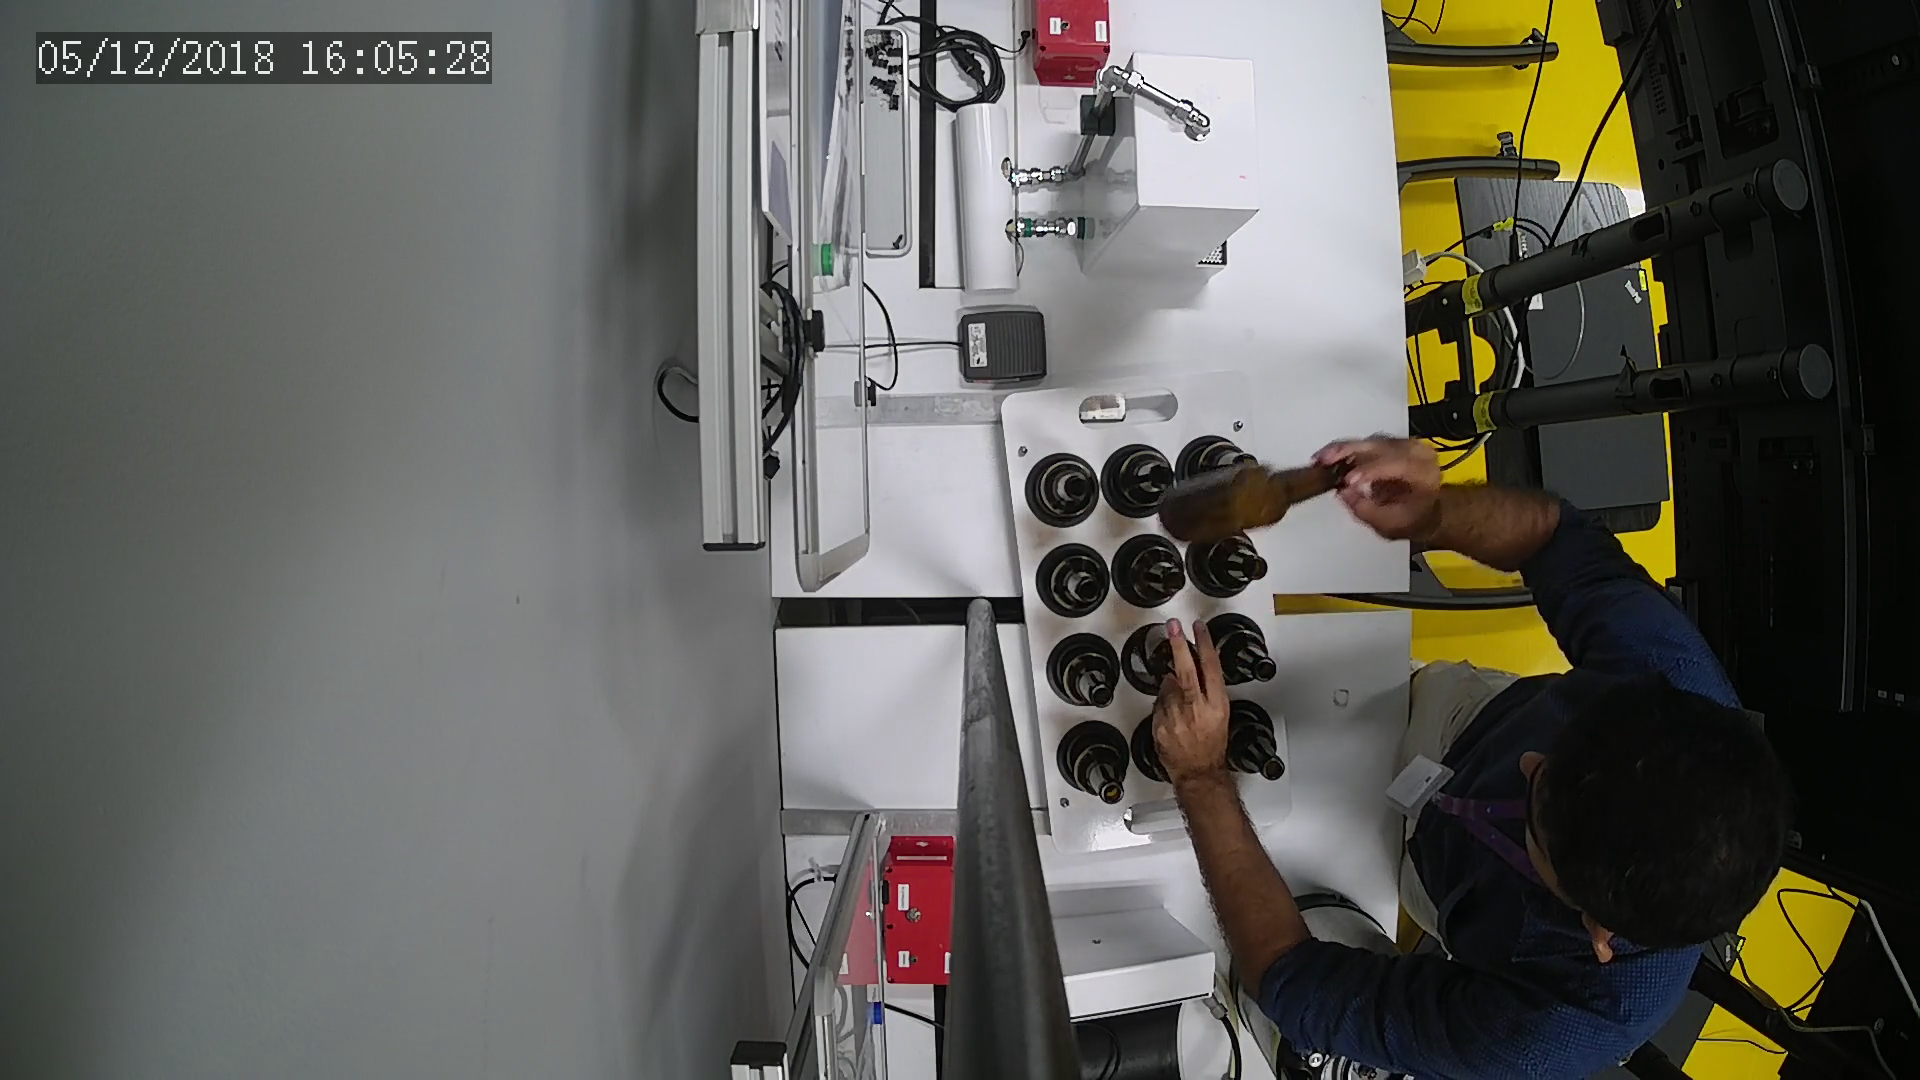filled_bottle: (1054, 717, 1131, 807), (1025, 444, 1104, 530), (1029, 543, 1112, 624), (1043, 630, 1120, 717), (1208, 607, 1279, 698), (1220, 702, 1294, 789), (1110, 531, 1191, 611), (1187, 526, 1273, 599), (1097, 443, 1174, 518), (1183, 433, 1269, 483)
trolley: (993, 365, 1313, 853)
